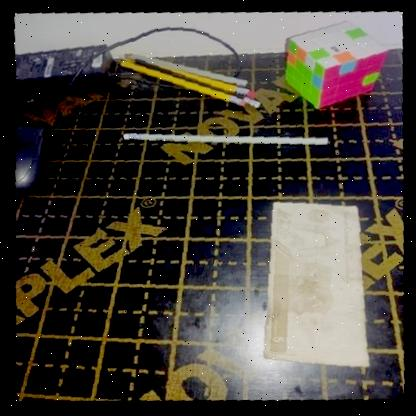five-back-vef: (251, 195, 371, 376)
